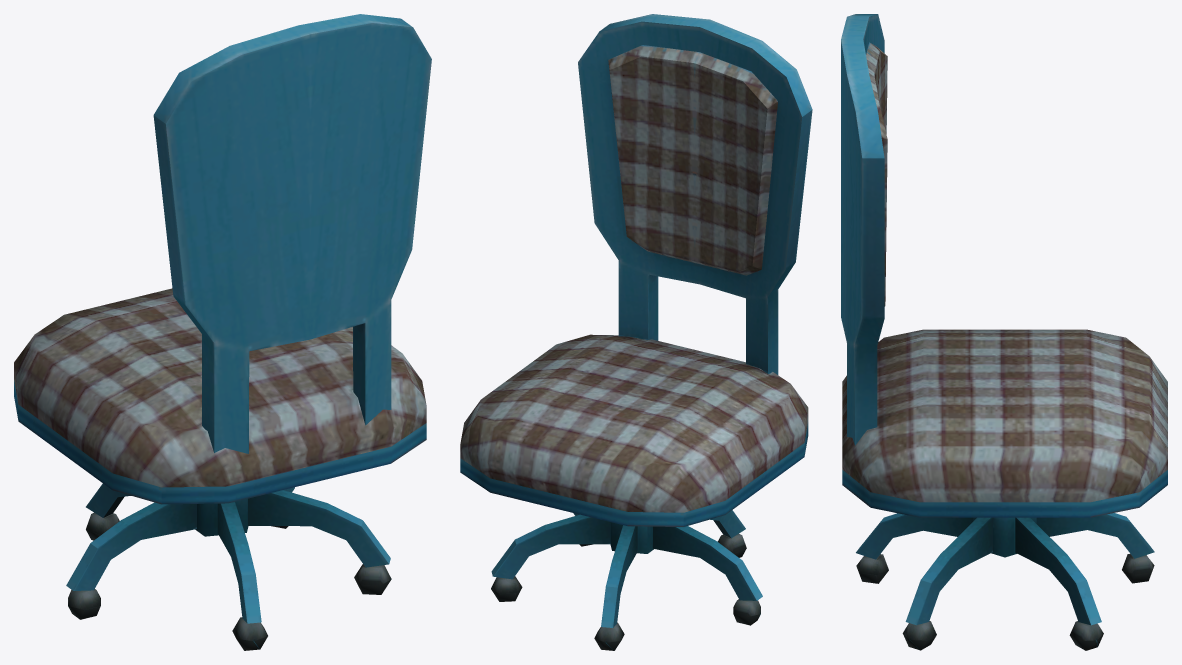
Rendered from furni_0200040_01.FBX.
3 views of the same model, side by side, from view 1: azimuth 30°, elevation 25°; view 2: azimuth 150°, elevation 25°; view 3: azimuth 270°, elevation 25° (orthographic). The views are drawn at different scales.
Visible parts, largest first — view 1: furni_0200040; view 2: furni_0200040; view 3: furni_0200040.
Part boxes in pixels (bbox=[...]): furni_0200040: bbox=[14, 14, 431, 650]; furni_0200040: bbox=[460, 14, 812, 650]; furni_0200040: bbox=[841, 14, 1167, 650].
Bounding box in the file's own units: 60 × 114 × 60.23.
